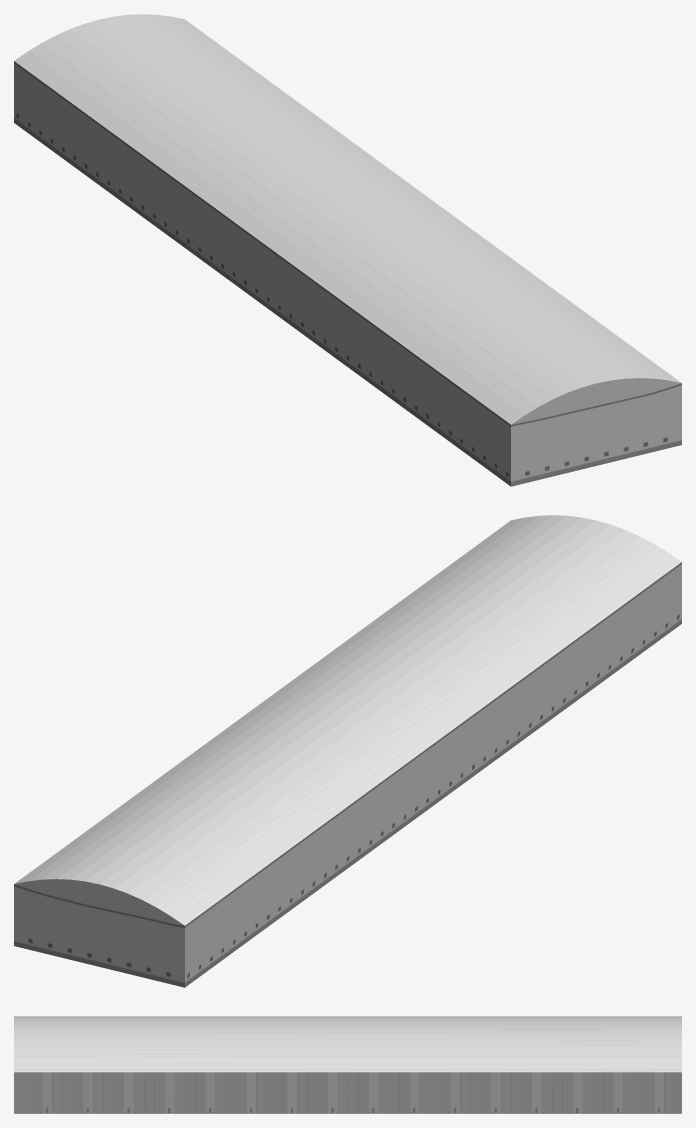
Rendered from khua_hangar_52x262.glb.
3 views of the same model, one above another, from view 1: azimuth 30°, elevation 25°; view 2: azimuth 150°, elevation 25°; view 3: azimuth 270°, elevation 25° (orthographic). The views are drawn at different scales.
Parts seen in each view (by area): view 1: khua_hangar_52x262_hangar_roof, khua_hangar_52x262_hangar_wall; view 2: khua_hangar_52x262_hangar_roof, khua_hangar_52x262_hangar_wall; view 3: khua_hangar_52x262_hangar_roof, khua_hangar_52x262_hangar_door.
Boxes of the visible parts, x1,y1,x2,y2 form: khua_hangar_52x262_hangar_roof: (14, 14, 681, 424); khua_hangar_52x262_hangar_wall: (14, 61, 681, 486); khua_hangar_52x262_hangar_roof: (14, 515, 681, 925); khua_hangar_52x262_hangar_wall: (14, 562, 681, 987); khua_hangar_52x262_hangar_roof: (14, 1016, 681, 1072); khua_hangar_52x262_hangar_door: (14, 1072, 681, 1113).
Size of the model in its own units: 52 by 24 by 262.
3 materials, 3 textured.
